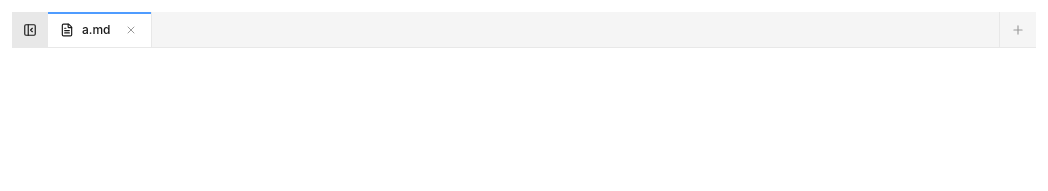
Test: TabsBar — context menu (AC#3) › closes the menu on Escape
Right-click the button with class "tab" at (100, 30), box left=48, top=12, right=152, bottom=48
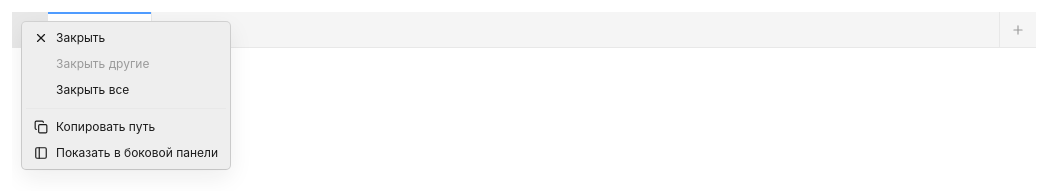
Expected: the menu with class "context-menu" is shown, left=22, top=22, right=230, bottom=169
Press Escape
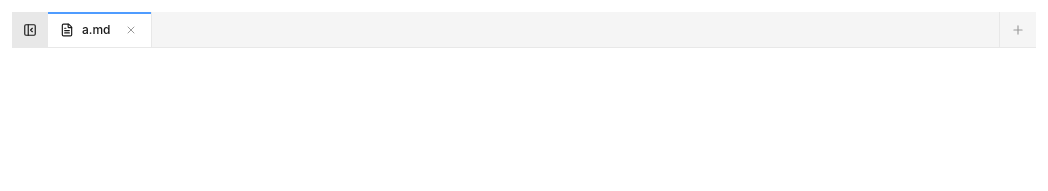
Expected: the menu with class "context-menu" is gone
